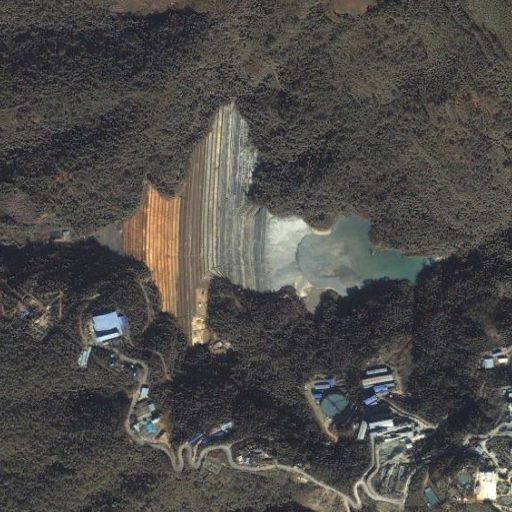tp: (117, 110, 447, 351)
